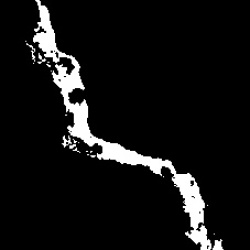crack: (27, 1, 225, 249)
